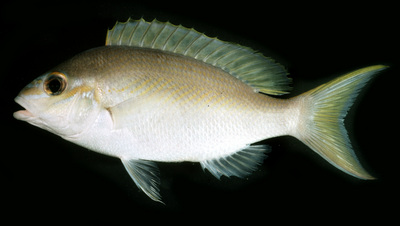fish: (14, 18, 390, 205)
